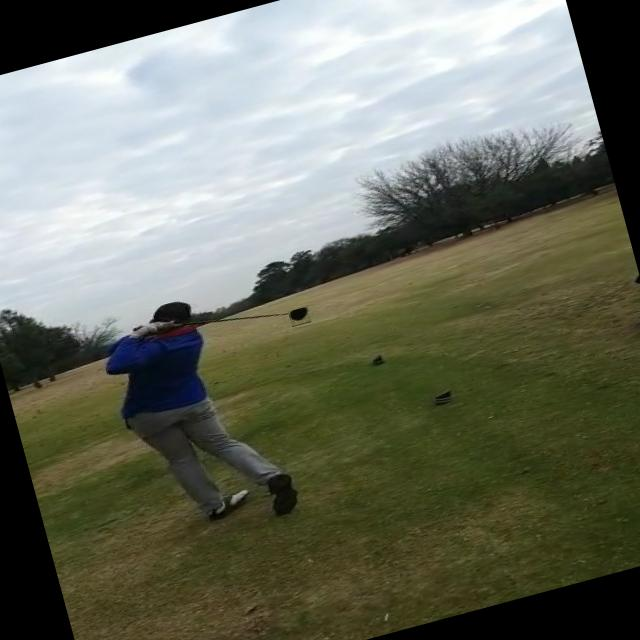club head: (288, 306, 311, 327)
